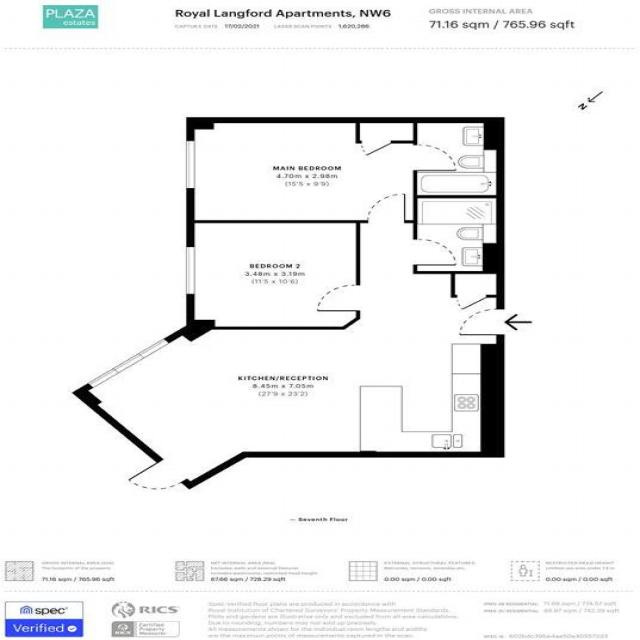DOOR: (122, 456, 191, 494), (363, 190, 411, 224), (413, 235, 461, 267), (312, 282, 360, 313), (456, 308, 504, 337), (413, 142, 458, 172)
ROOM: (69, 190, 505, 491), (187, 118, 419, 225), (186, 222, 360, 329)
WINDOW: (85, 336, 173, 391), (183, 139, 198, 190), (184, 244, 197, 296)
